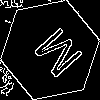M: (25, 25, 85, 87)
